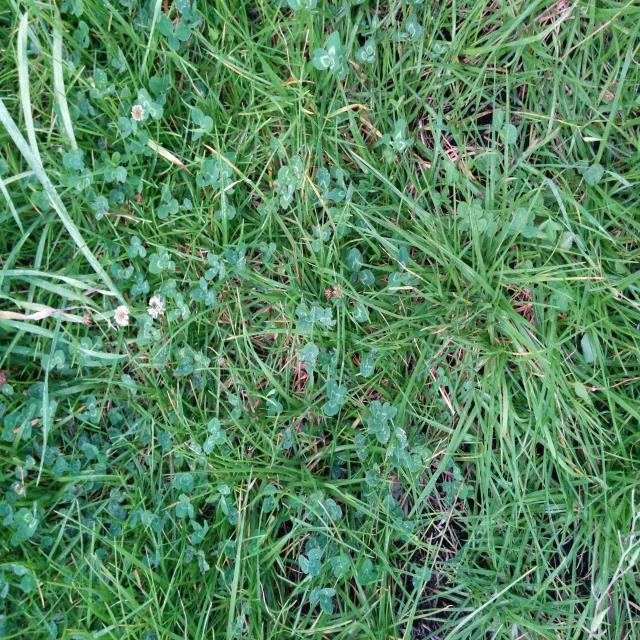Four Leaf Clover: (367, 400, 397, 444)
